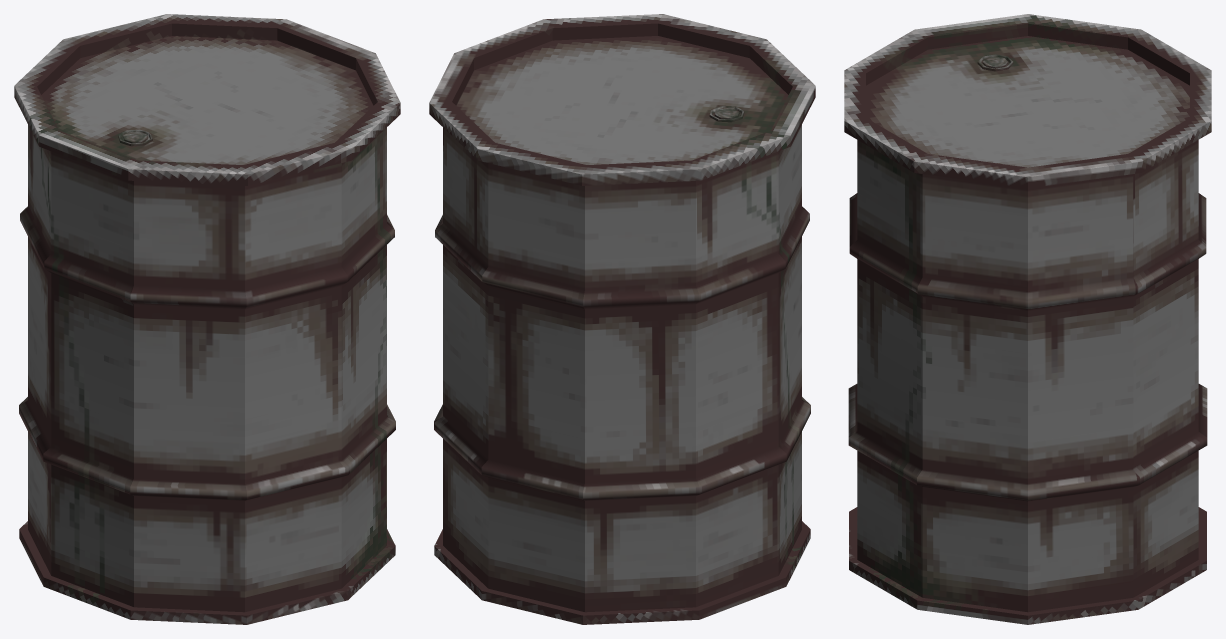
File: barrel.fbx
3 views of the same model, side by side, from view 1: azimuth 30°, elevation 25°; view 2: azimuth 150°, elevation 25°; view 3: azimuth 270°, elevation 25° (orthographic).
Parts seen in each view (by area): view 1: barrel; view 2: barrel; view 3: barrel.
Part boxes in pixels (x1,y1,x2,y2): barrel: [14, 14, 400, 624]; barrel: [429, 14, 815, 624]; barrel: [844, 14, 1211, 624].
Bounding box in the file's own units: 2.43 × 3.12 × 2.31.
